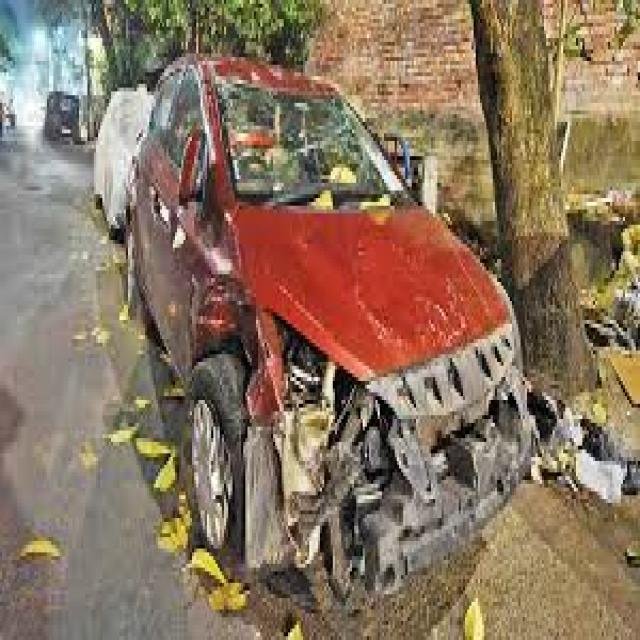accident: (118, 23, 519, 591)
